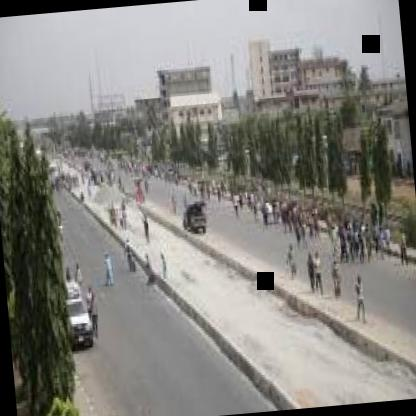car: (64, 292, 102, 361), (174, 198, 216, 240)
